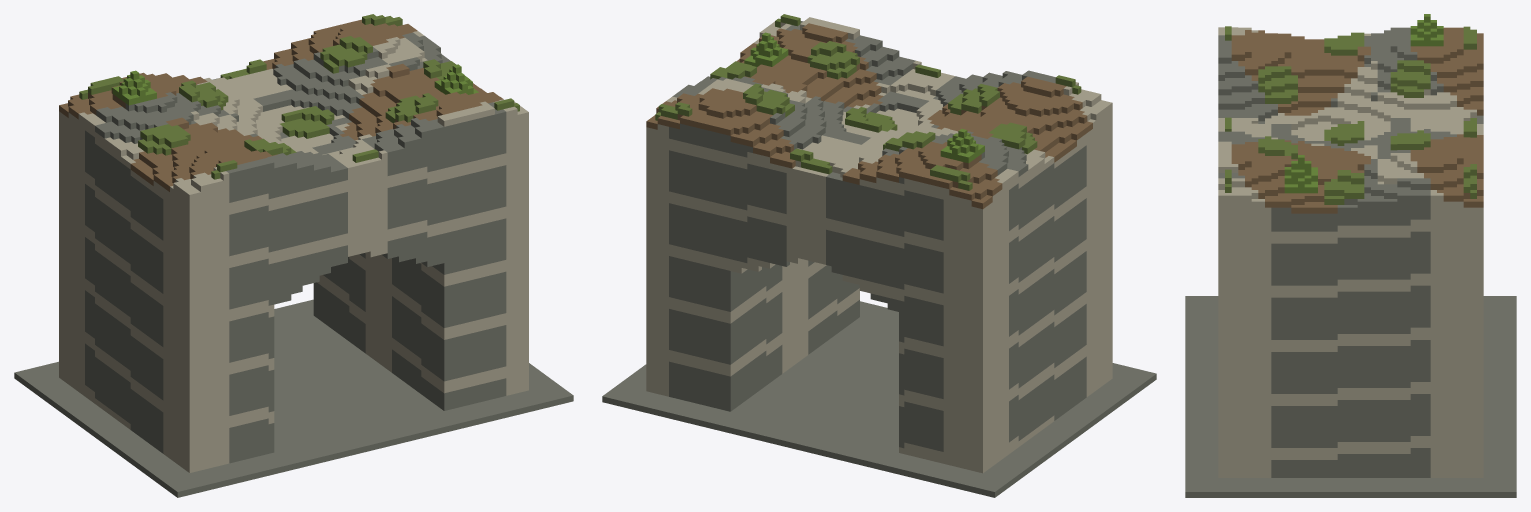
3 views of the same model, side by side, from view 1: azimuth 30°, elevation 25°; view 2: azimuth 150°, elevation 25°; view 3: azimuth 270°, elevation 25° (orthographic). The views are drawn at different scales.
Visible parts, largest first — view 1: 悬挑岩檐与天然穿洞组件, 天然洞底独立0.2m地面（辅助）; view 2: 悬挑岩檐与天然穿洞组件, 天然洞底独立0.2m地面（辅助）; view 3: 悬挑岩檐与天然穿洞组件, 天然洞底独立0.2m地面（辅助）.
Boxes of the visible parts, <box> form: 悬挑岩檐与天然穿洞组件: <box>59,14,528,472</box>; 天然洞底独立0.2m地面（辅助）: <box>14,299,573,497</box>; 悬挑岩檐与天然穿洞组件: <box>646,14,1112,473</box>; 天然洞底独立0.2m地面（辅助）: <box>602,301,1156,497</box>; 悬挑岩檐与天然穿洞组件: <box>1218,14,1483,477</box>; 天然洞底独立0.2m地面（辅助）: <box>1185,296,1516,497</box>.
Bounding box in the file's own units: 14 × 10.8 × 10.
5 materials, 5 textured.
